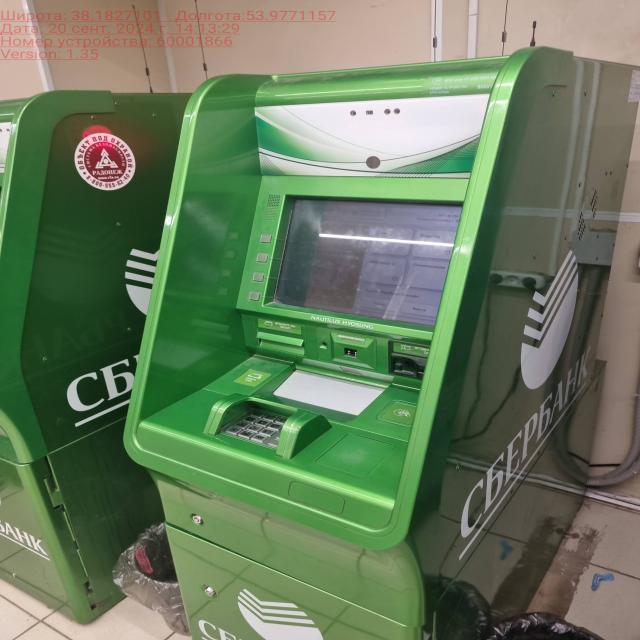bank: (126, 46, 640, 640), (0, 91, 215, 623)
